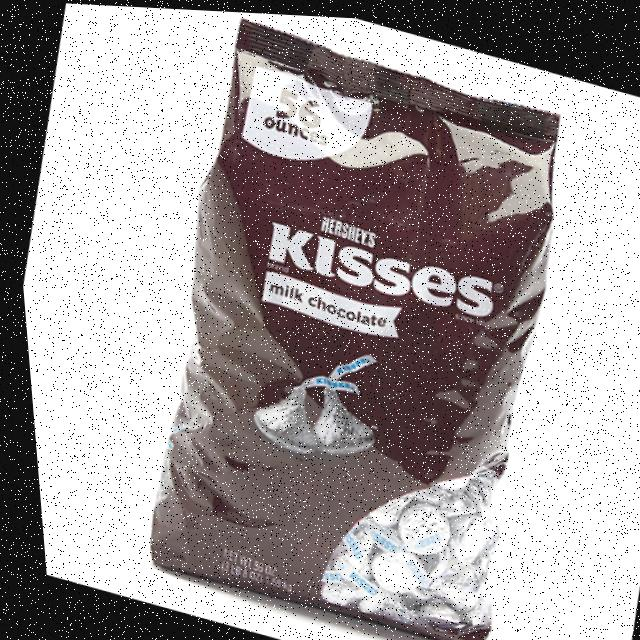kisses: (290, 374, 383, 470), (233, 365, 327, 459), (381, 490, 450, 562), (410, 544, 479, 613), (355, 539, 423, 600)
